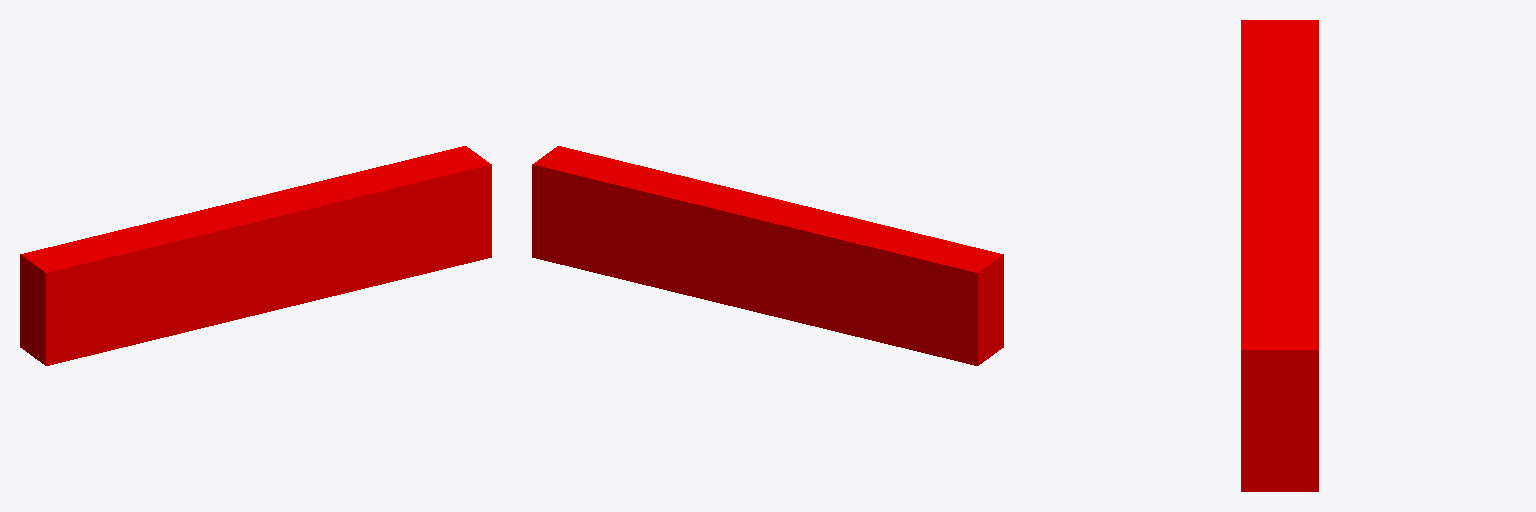
robot.urdf — ball:
<?xml version="0.0" ?>
<robot name="ball">
    <link name="wall">
        <contact>
            <lateral_friction value="1"/>
        </contact>

        <inertial>
            <origin xyz="0 0 0" rpy="0 0 0"/>
            <mass value="0.0"/>
            <inertia ixx="0"  ixy="0"  ixz="0" iyy="0" iyz="0" izz="0" />
        </inertial>

        <visual>
            <origin xyz="0 0 0" rpy="0 0 0" />
            <geometry>
                <box size="1.0 0.1 0.2" />
            </geometry>
            <material name="Red">
                <color rgba="1.0 0.0 0.0 1.0"/>
            </material>
        </visual>

        <collision>
            <origin xyz="0 0 0" rpy="0 0 0"/>
            <geometry>
                <box size="1.0 0.1 0.2" />
            </geometry>
        </collision>
    </link>
</robot>

--- What the picture shows (computed from the rendered views, not written in the file) ---
3 views of the same robot in one strip: view 1: azimuth 30°, elevation 25°; view 2: azimuth 150°, elevation 25°; view 3: azimuth 270°, elevation 25° (orthographic).
Robot: ball — 1 links, 0 joints (none); root link wall; default pose: all joints at 0.
Visible links, largest first — view 1: wall; view 2: wall; view 3: wall.
Boxes of the visible links, <box> form: wall: <box>20,146,491,365</box>; wall: <box>532,146,1003,365</box>; wall: <box>1241,20,1318,491</box>.
Size in the robot's own frame: 1 by 0.1 by 0.2 metres.
Geometry: primitives only (box / cylinder / sphere), no mesh files.